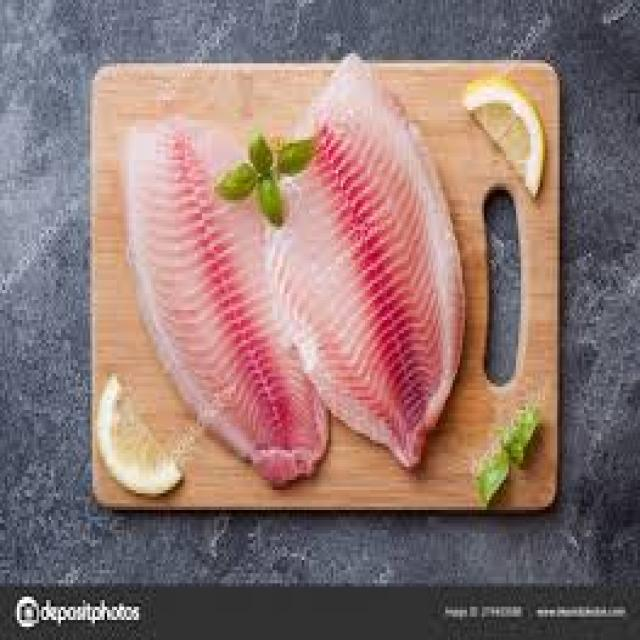Fish: (101, 96, 353, 496), (246, 49, 472, 477)
